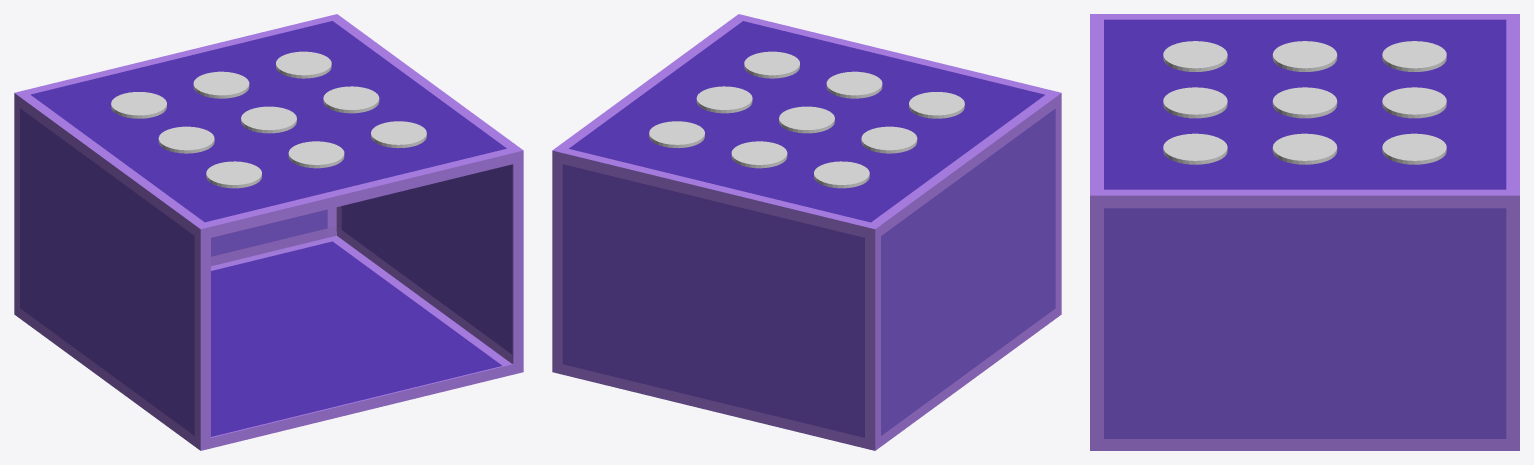
Rendered from modelado.fbx.
3 views of the same model, side by side, from view 1: azimuth 30°, elevation 25°; view 2: azimuth 150°, elevation 25°; view 3: azimuth 270°, elevation 25° (orthographic). The views are drawn at different scales.
Parts seen in each view (by area): view 1: Cube.002, Cylinder.003, Cylinder.004, Cylinder.006, Cylinder.008, Cylinder.005, Cylinder.009, Cylinder.007, Cylinder.010, Cylinder.002; view 2: Cube.002, Cylinder.003, Cylinder.002, Cylinder.006, Cylinder.010, Cylinder.007, Cylinder.009, Cylinder.005, Cylinder.008, Cylinder.004; view 3: Cube.002, Cylinder.005, Cylinder.007, Cylinder.006, Cylinder.003, Cylinder.009, Cylinder.008, Cylinder.010, Cylinder.002, Cylinder.004.
Boxes of the visible parts, <box> form: Cube.002: <box>14,14,523,450</box>; Cylinder.003: <box>158,126,214,153</box>; Cylinder.004: <box>206,161,261,188</box>; Cylinder.006: <box>241,106,296,133</box>; Cylinder.008: <box>276,51,331,78</box>; Cylinder.005: <box>288,141,344,168</box>; Cylinder.009: <box>323,86,379,113</box>; Cylinder.007: <box>193,71,249,98</box>; Cylinder.010: <box>371,121,426,148</box>; Cylinder.002: <box>111,92,166,118</box>; Cube.002: <box>552,14,1061,450</box>; Cylinder.003: <box>861,126,917,153</box>; Cylinder.002: <box>814,161,869,188</box>; Cylinder.006: <box>779,106,834,133</box>; Cylinder.010: <box>744,51,799,78</box>; Cylinder.007: <box>731,141,787,168</box>; Cylinder.009: <box>696,86,752,113</box>; Cylinder.005: <box>826,71,882,98</box>; Cylinder.008: <box>649,121,704,148</box>; Cylinder.004: <box>909,92,964,118</box>; Cube.002: <box>1090,14,1519,450</box>; Cylinder.005: <box>1163,87,1227,118</box>; Cylinder.007: <box>1382,87,1446,118</box>; Cylinder.006: <box>1272,87,1337,118</box>; Cylinder.003: <box>1272,41,1337,71</box>; Cylinder.009: <box>1272,133,1337,164</box>; Cylinder.008: <box>1382,133,1446,164</box>; Cylinder.010: <box>1163,133,1227,164</box>; Cylinder.002: <box>1382,41,1446,71</box>; Cylinder.004: <box>1163,41,1227,71</box>.
Bounding box in the file's own units: 400 × 266 × 400.
